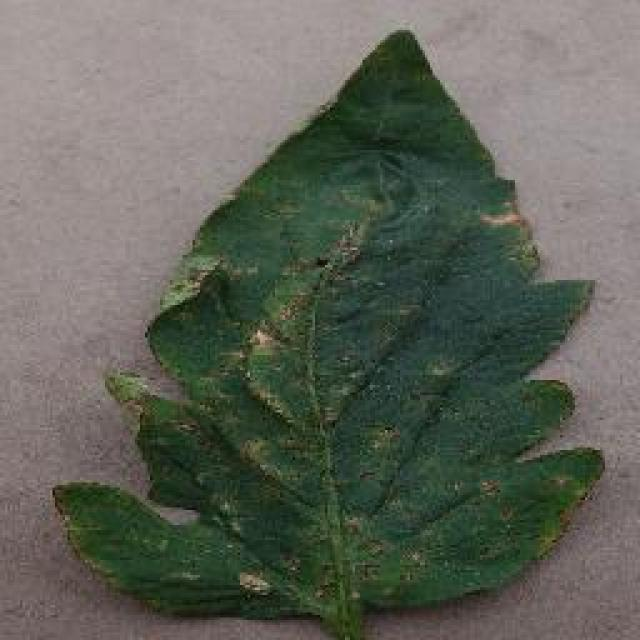Tomato bacterial spot leaf: (39, 22, 619, 636)
